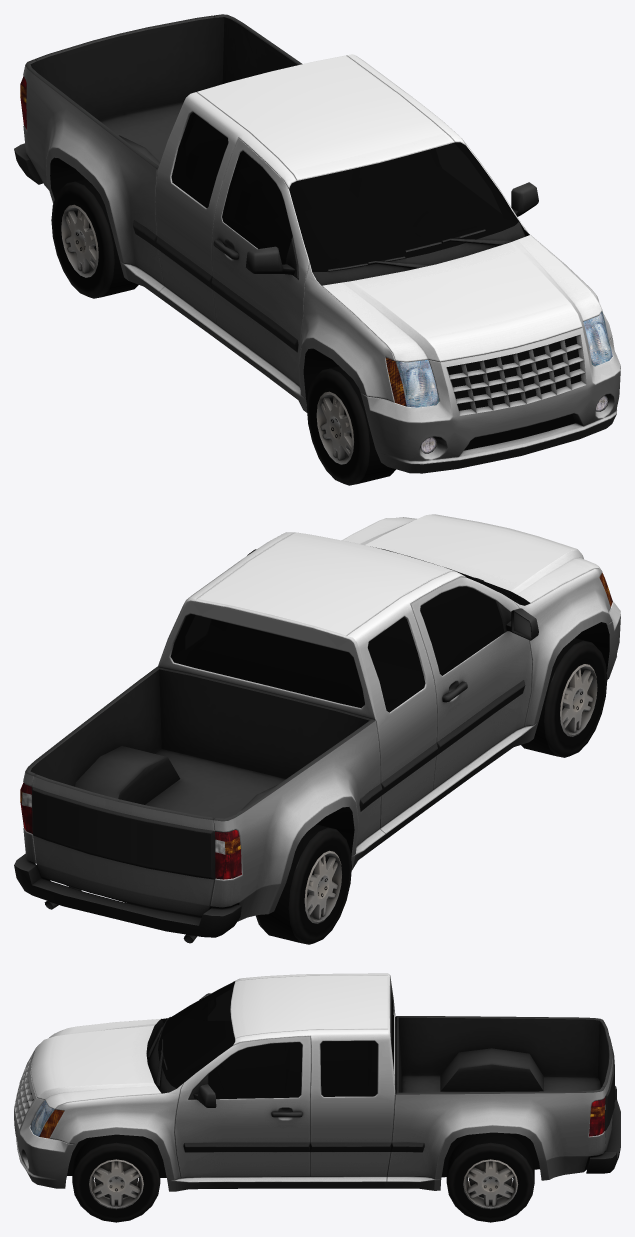
The model's file is pickup.glb.
The picture shows the model from 3 angles, top to bottom: view 1: azimuth 30°, elevation 25°; view 2: azimuth 150°, elevation 25°; view 3: azimuth 270°, elevation 25°; orthographic projection. The views are drawn at different scales.
Parts seen in each view (by area): view 1: Pickup Body_Body_0, Pickup Body_Glass_0, Door skin and glass (×2), TyreRim (×2), Lamp head; view 2: Pickup Body_Body_0, Door skin and glass (×2), Pickup Body_Glass_0, TyreRim (×2), Lamp brake; view 3: Pickup Body_Body_0, Door skin and glass (×2), TyreRim (×2), Pickup Body_Glass_0, Lamp head, Lamp brake.
Boxes of the visible parts, x1,y1,x2,y2 form: Pickup Body_Body_0: (14,14,620,473); Pickup Body_Glass_0: (171,112,519,271); Door skin and glass (×2): (195,142,300,386); TyreRim (×2): (51,178,395,485); Lamp head: (385,311,612,453); Pickup Body_Body_0: (14,514,620,943); Door skin and glass (×2): (403,586,538,800); Pickup Body_Glass_0: (170,547,518,712); TyreRim (×2): (256,638,607,944); Lamp brake: (20,782,241,879); Pickup Body_Body_0: (14,973,620,1191); Door skin and glass (×2): (184,1042,332,1176); TyreRim (×2): (72,1132,534,1222); Pickup Body_Glass_0: (158,981,393,1096); Lamp head: (30,1100,64,1138); Lamp brake: (589,1097,605,1136).
Bounding box in the file's own units: 2 × 1.64 × 5.
6 materials, 4 textured.
